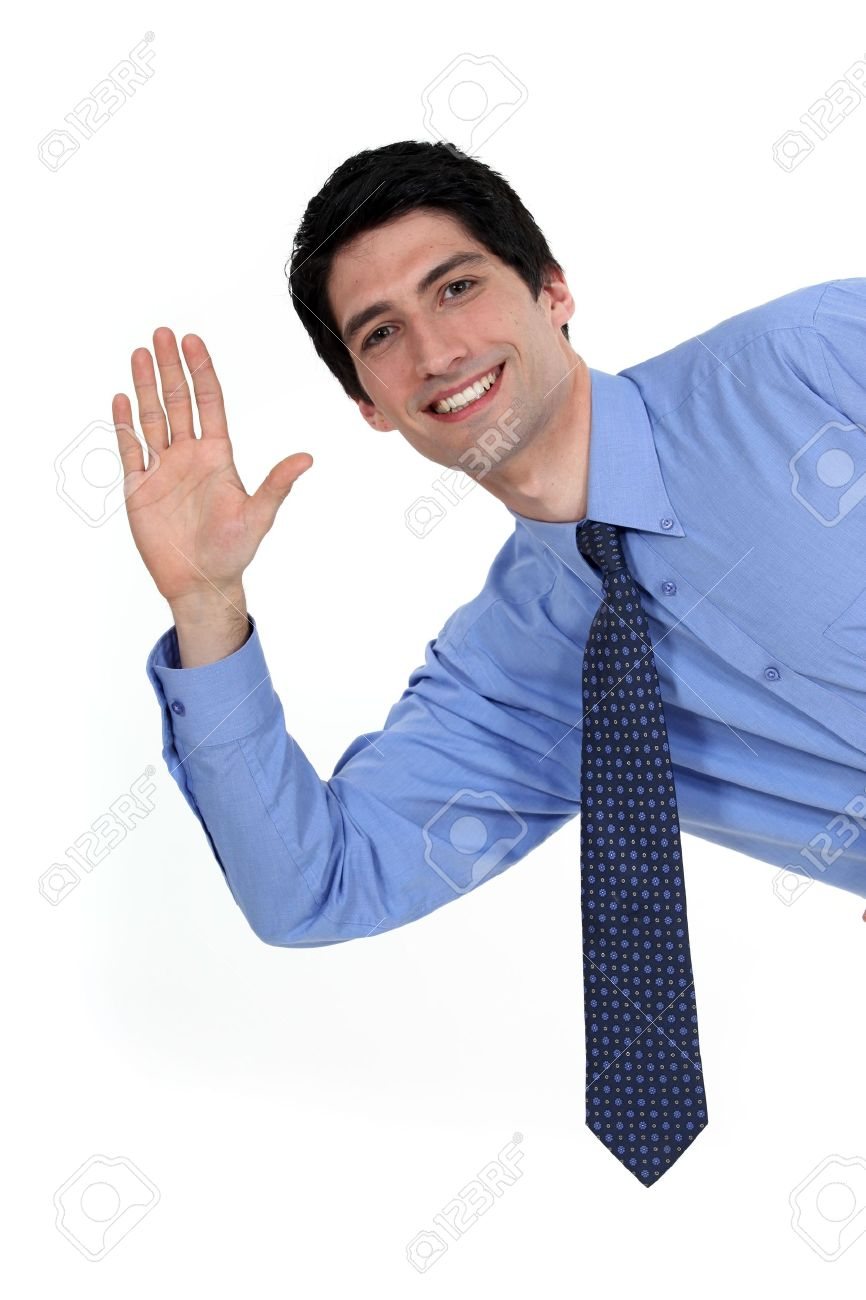open_hand: (63, 298, 341, 588)
